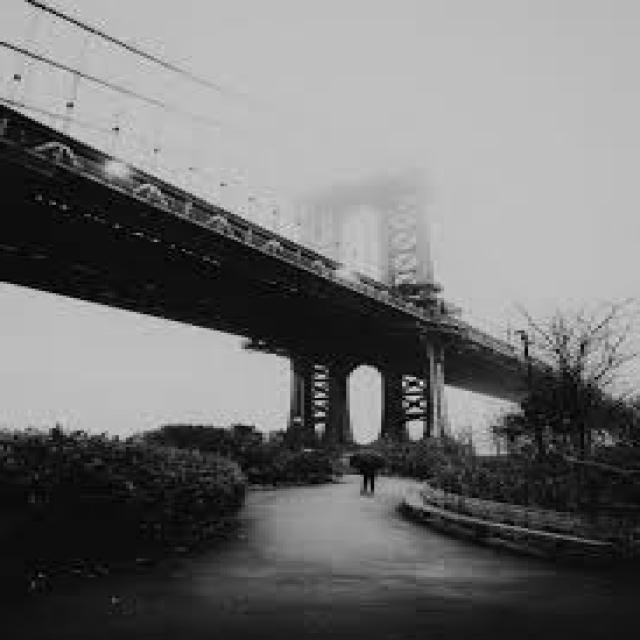Bridges: (0, 42, 634, 474)
